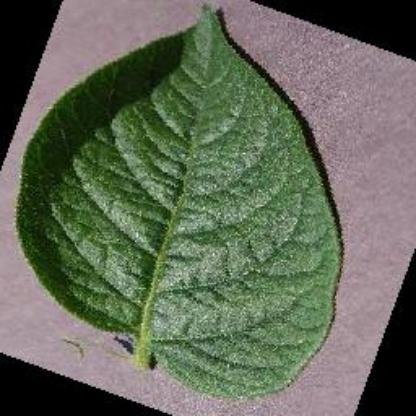Healthy-plant: (16, 4, 344, 404)
